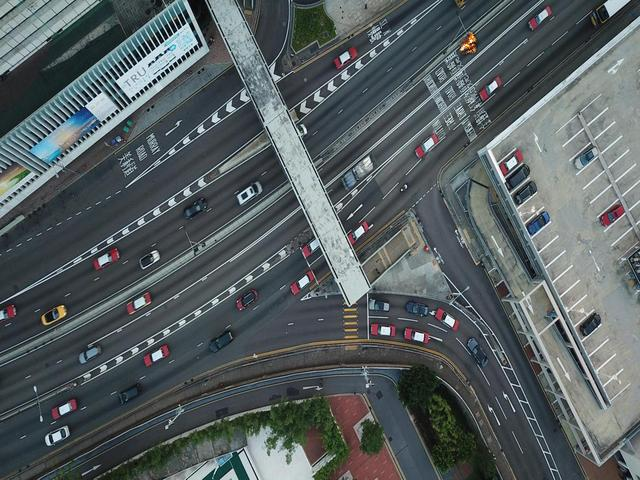fire: (456, 31, 479, 56)
